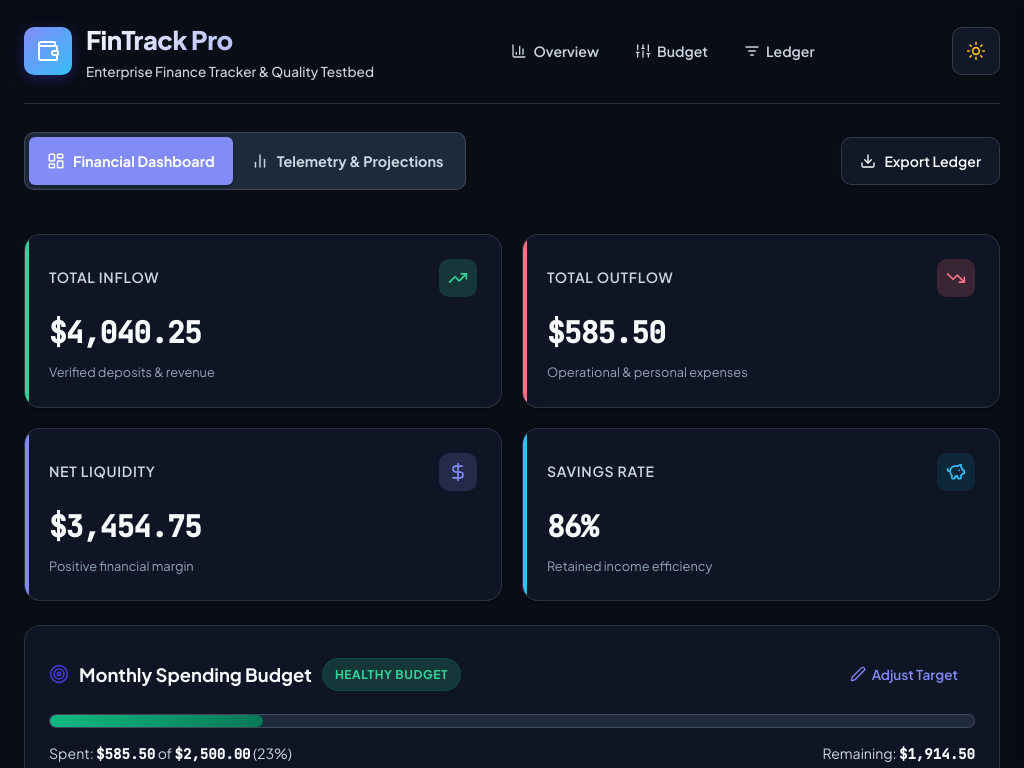
Test case: Phase 5 Verification: Performance & Accessibility Compliance › verifies dynamic export modal opens with focus trap and closes smoothly
Click the button with test id "open-export-modal-btn": (921, 161) [841,137,1000,185]
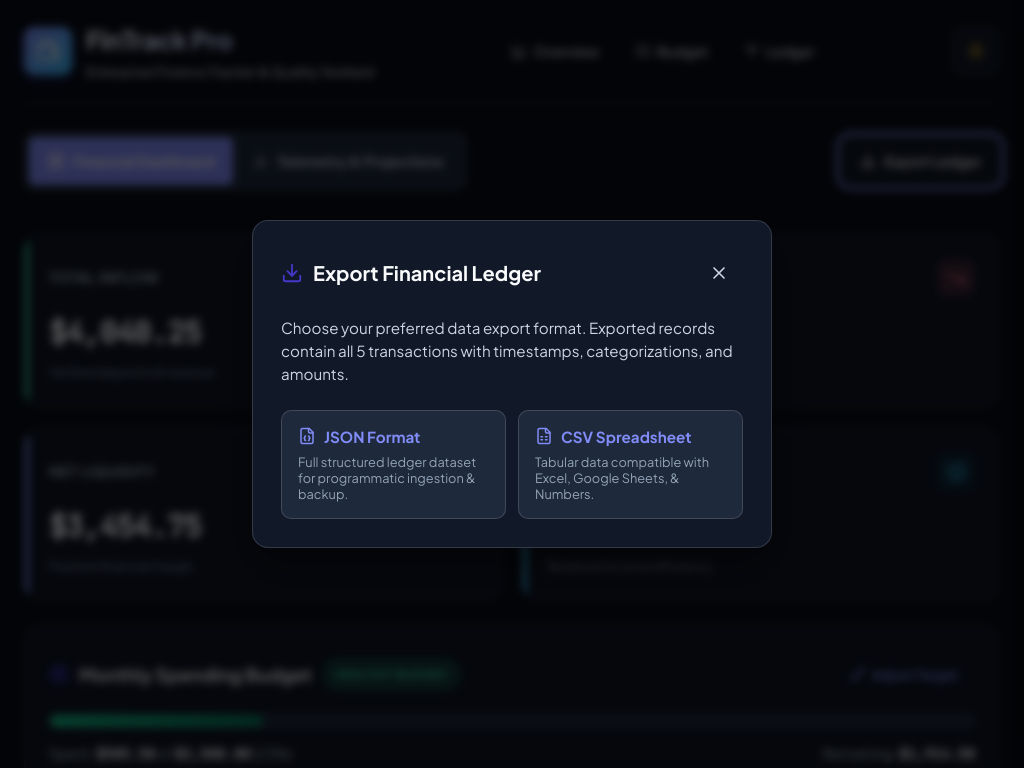
Result: the dialog with test id "export-modal" is shown at [252,220,772,548]
# Close button dismisses modal
Click the button with test id "close-export-modal-btn": (719, 273) [695,249,743,297]
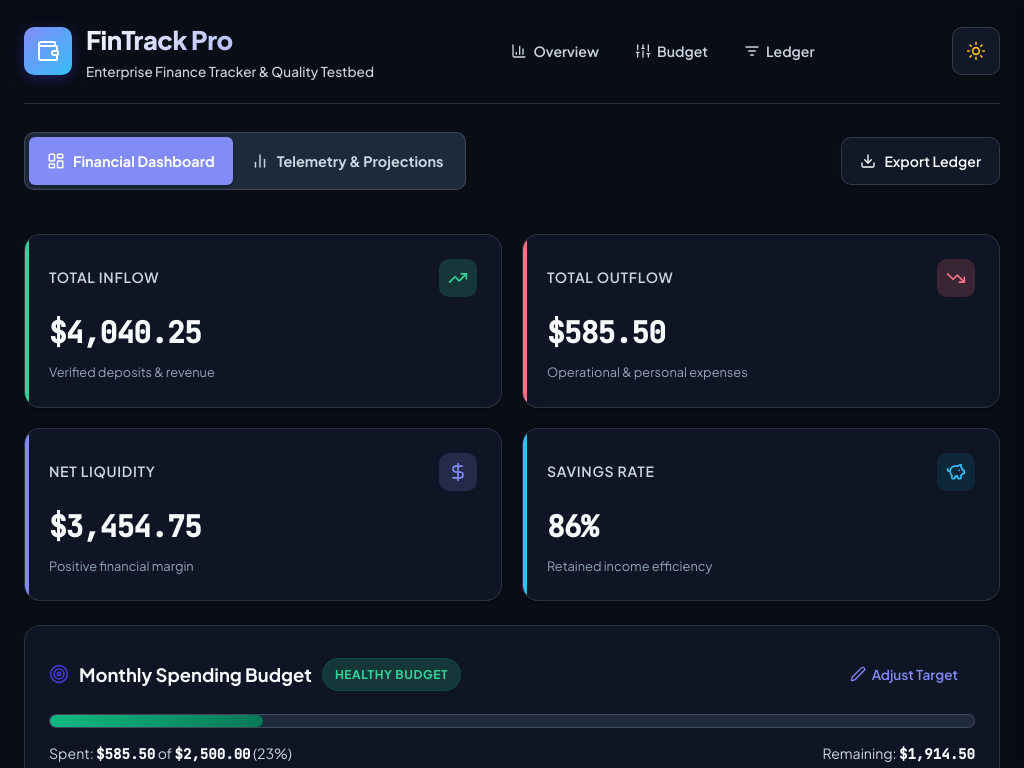
Result: the dialog with test id "export-modal" is gone
